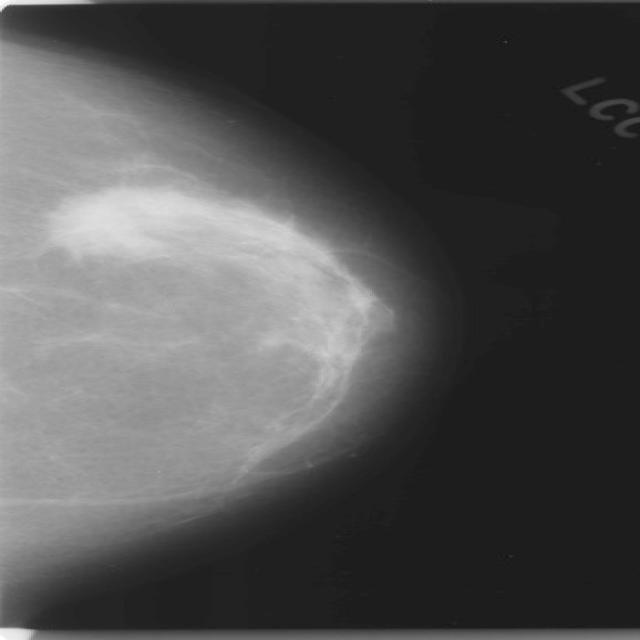tumour: (42, 184, 239, 260)
